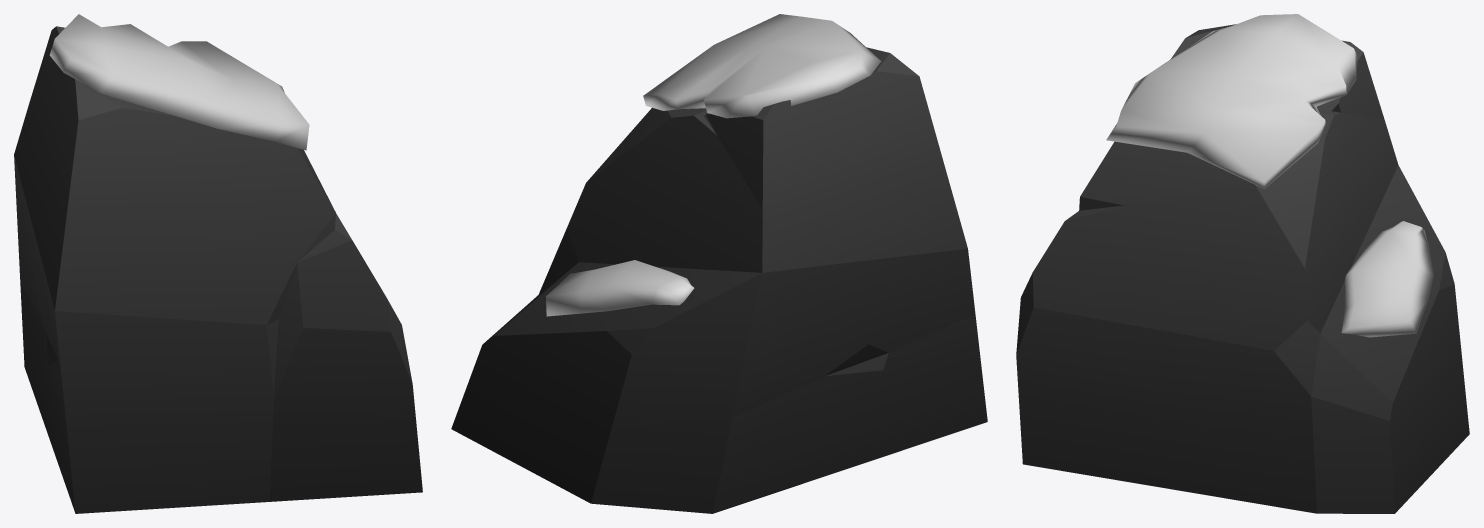
The model's file is winter-rock-1.fbx.
3 views of the same model, side by side, from view 1: azimuth 30°, elevation 25°; view 2: azimuth 150°, elevation 25°; view 3: azimuth 270°, elevation 25° (orthographic). The views are drawn at different scales.
Visible parts, largest first — view 1: RBi1; view 2: RBi1; view 3: RBi1.
Part boxes in pixels (x1,y1,x2,y2): RBi1: (14,14,422,513); RBi1: (451,14,987,513); RBi1: (1016,14,1469,513).
Size of the model in its own units: 260 by 248 by 287.
